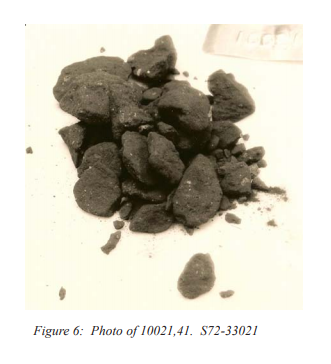Breccia: (48, 37, 239, 296)
